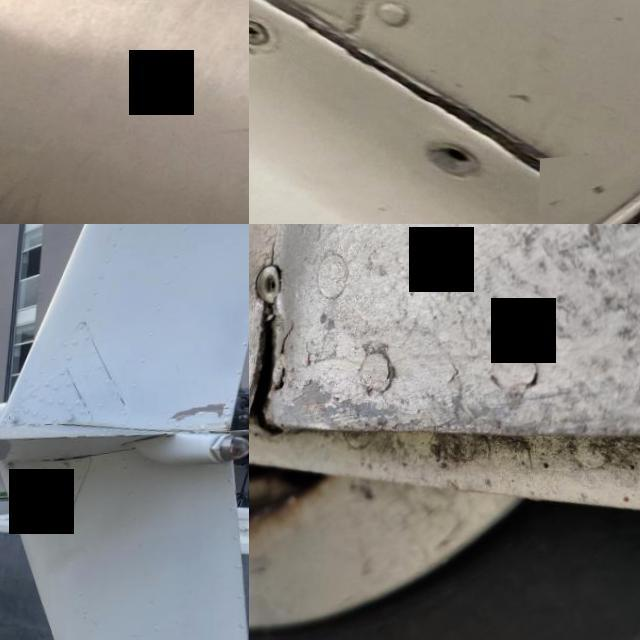Crack: (249, 287, 320, 448), (541, 156, 640, 224), (224, 413, 237, 417)
Missing_Fastener: (411, 142, 494, 193)
